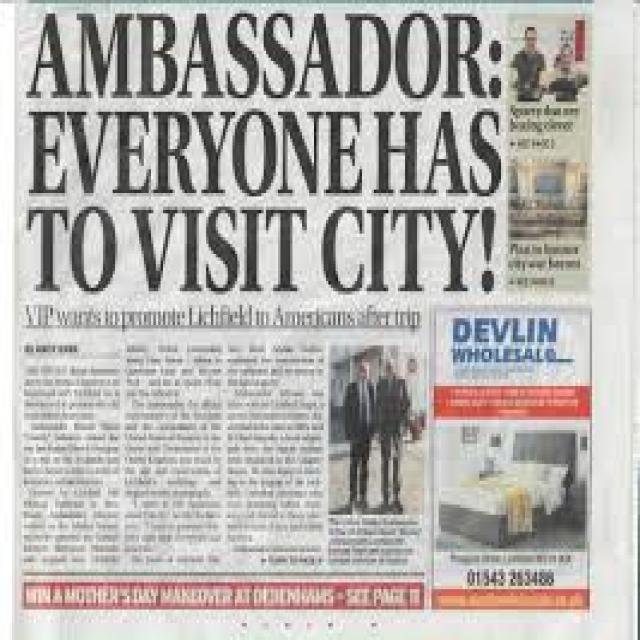paper: (19, 13, 637, 640)
